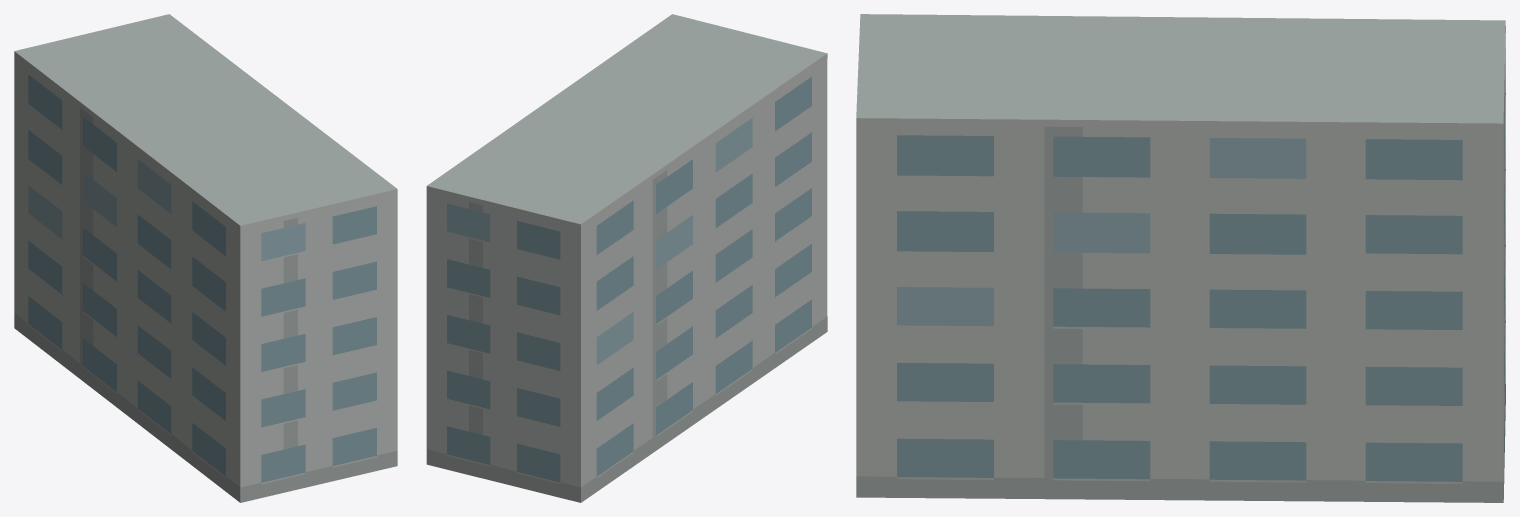
File: survey-upis-32636757.glb
3 renders of one model, left to right at view 1: azimuth 30°, elevation 25°; view 2: azimuth 150°, elevation 25°; view 3: azimuth 270°, elevation 25°, orthographic. The views are drawn at different scales.
Visible parts, largest first — view 1: survey-upis-32636757.tmp; view 2: survey-upis-32636757.tmp; view 3: survey-upis-32636757.tmp.
Part boxes in pixels (x1,y1,x2,y2): survey-upis-32636757.tmp: [14, 14, 397, 502]; survey-upis-32636757.tmp: [426, 14, 827, 502]; survey-upis-32636757.tmp: [856, 14, 1505, 502].
Size of the model in its own units: 8.12 by 13.1 by 20.34.
